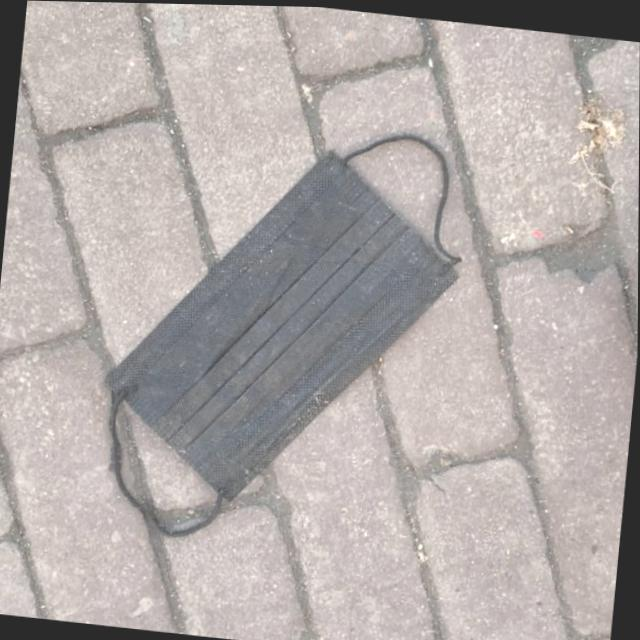Mask: (85, 96, 479, 567)
